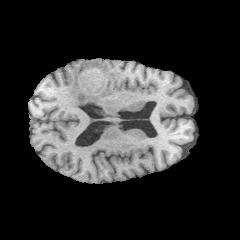glioma: (69, 61, 122, 104)
